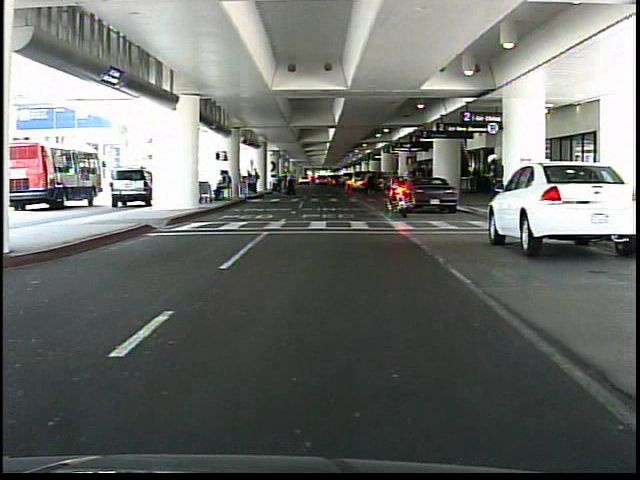person: (479, 149, 506, 220)
